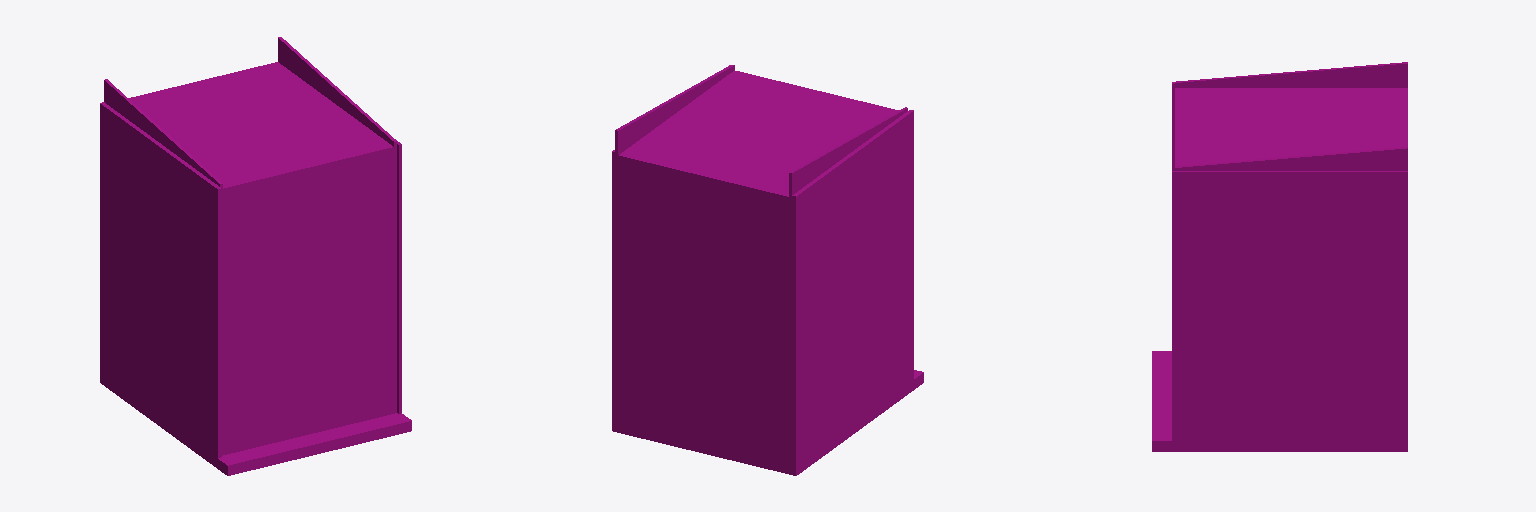
File: TPA5.obj
3 renders of one model, left to right at view 1: azimuth 30°, elevation 25°; view 2: azimuth 150°, elevation 25°; view 3: azimuth 270°, elevation 25°, orthographic.
Visible parts, largest first — view 1: Box006; view 2: Box006; view 3: Box006.
Part boxes in pixels (left/top/right/bottom): Box006: left=100, top=37, right=411, bottom=475; Box006: left=612, top=65, right=923, bottom=475; Box006: left=1152, top=62, right=1407, bottom=451.
Bounding box in the file's own units: 21.65 × 33.85 × 25.99.